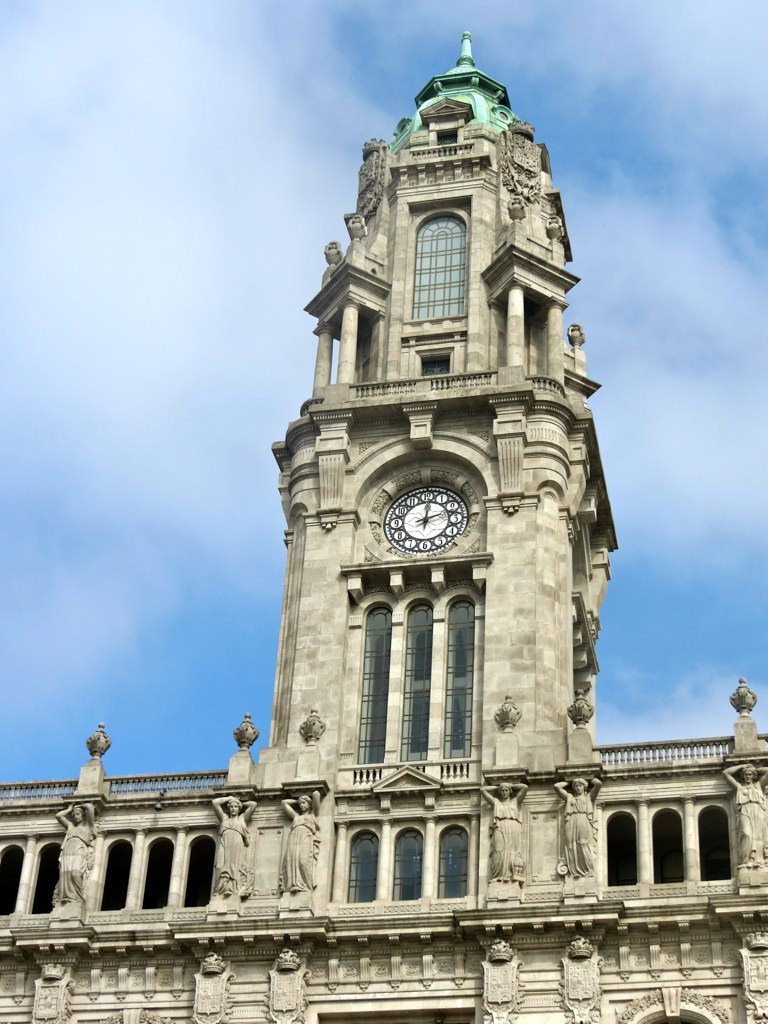camara: (0, 29, 767, 1023)
